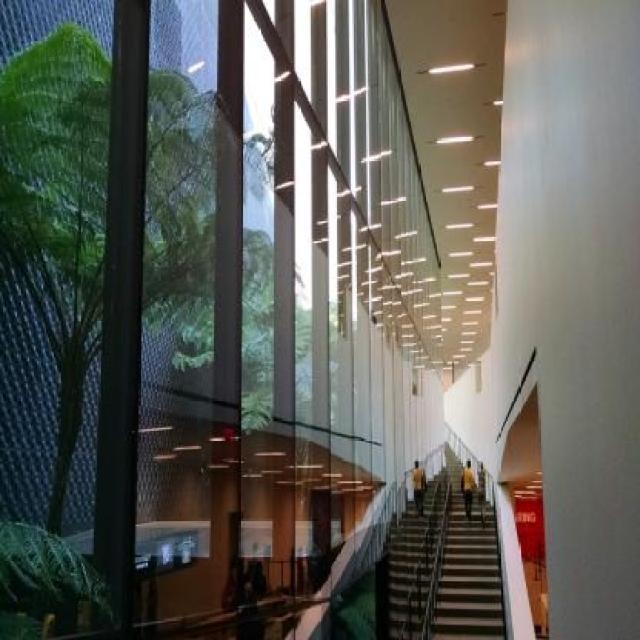stair: (427, 432, 511, 640)
